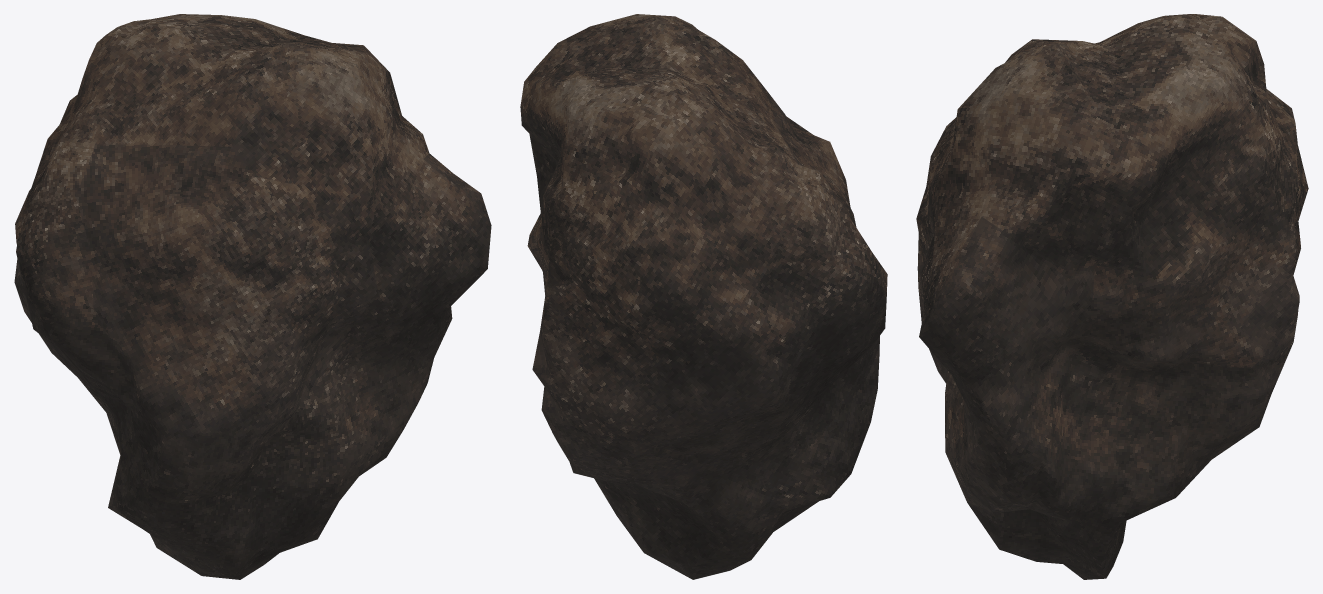
Rendered from SM_RP2_Rock_4m_7.001.glb.
3 views of the same model, side by side, from view 1: azimuth 30°, elevation 25°; view 2: azimuth 150°, elevation 25°; view 3: azimuth 270°, elevation 25° (orthographic). The views are drawn at different scales.
Parts seen in each view (by area): view 1: SM_RP2_Rock_4m_7.001; view 2: SM_RP2_Rock_4m_7.001; view 3: SM_RP2_Rock_4m_7.001.
Part boxes in pixels (left/top/right/bottom): SM_RP2_Rock_4m_7.001: left=14, top=14, right=491, bottom=579; SM_RP2_Rock_4m_7.001: left=520, top=14, right=887, bottom=579; SM_RP2_Rock_4m_7.001: left=916, top=14, right=1308, bottom=579.
Size of the model in its own units: 5.02 by 6.51 by 4.15.
1 material, 1 textured.
